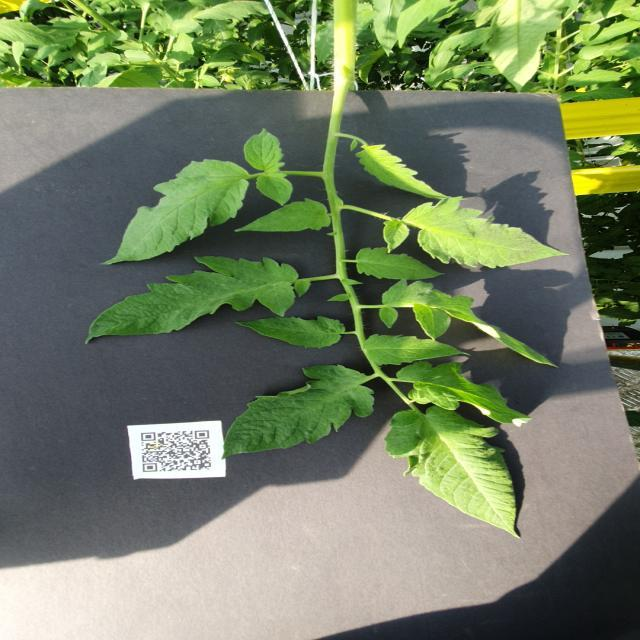Tomato healthy leaf: (100, 128, 294, 266), (84, 255, 300, 345), (383, 405, 521, 540), (377, 280, 565, 370), (219, 364, 376, 460), (378, 194, 571, 268), (395, 360, 533, 428), (476, 0, 569, 93), (354, 144, 452, 200), (233, 316, 347, 350), (232, 196, 332, 232), (362, 333, 471, 366), (396, 0, 464, 48), (356, 247, 446, 280), (0, 16, 65, 48), (370, 0, 404, 58), (566, 68, 630, 87), (165, 33, 196, 66), (87, 52, 121, 66), (124, 49, 153, 63), (196, 75, 222, 86)
